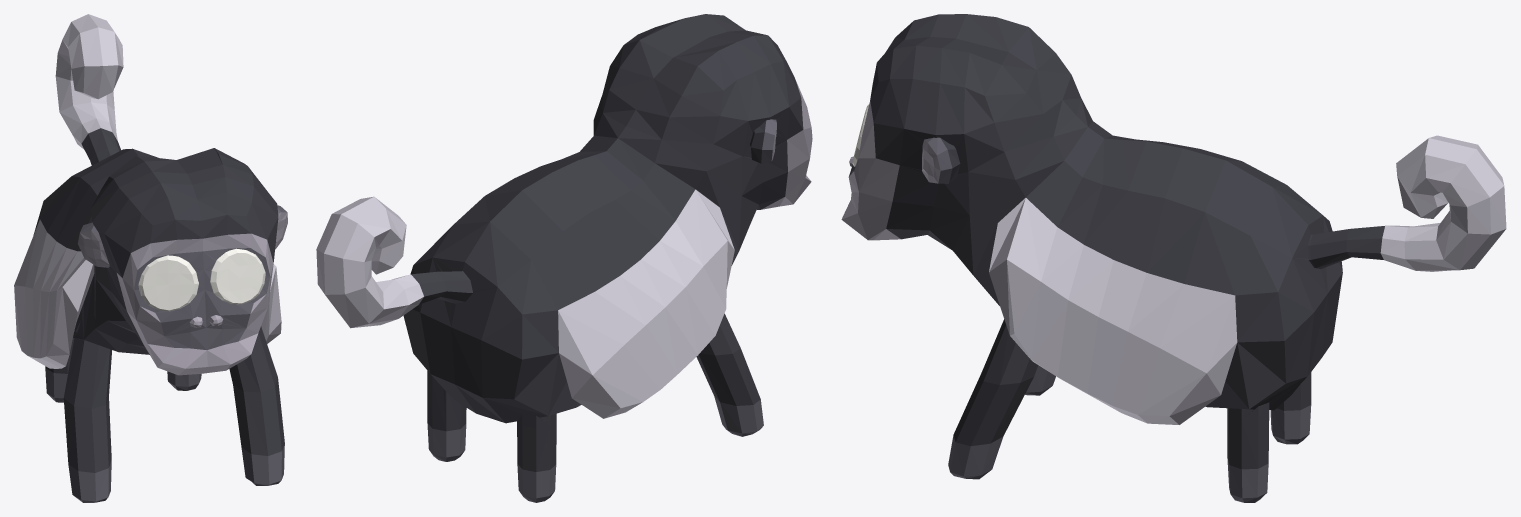
File: swmonkey.glb
3 views of the same model, side by side, from view 1: azimuth 30°, elevation 25°; view 2: azimuth 150°, elevation 25°; view 3: azimuth 270°, elevation 25° (orthographic). The views are drawn at different scales.
Parts seen in each view (by area): view 1: Mesh_12; view 2: Mesh_12; view 3: Mesh_12.
Boxes of the visible parts, x1,y1,x2,y2 form: Mesh_12: (14,14,287,502); Mesh_12: (316,14,812,502); Mesh_12: (841,14,1506,502).
Size of the model in its own units: 0.6069 by 0.7982 by 1.21.
1 material, 1 textured.
